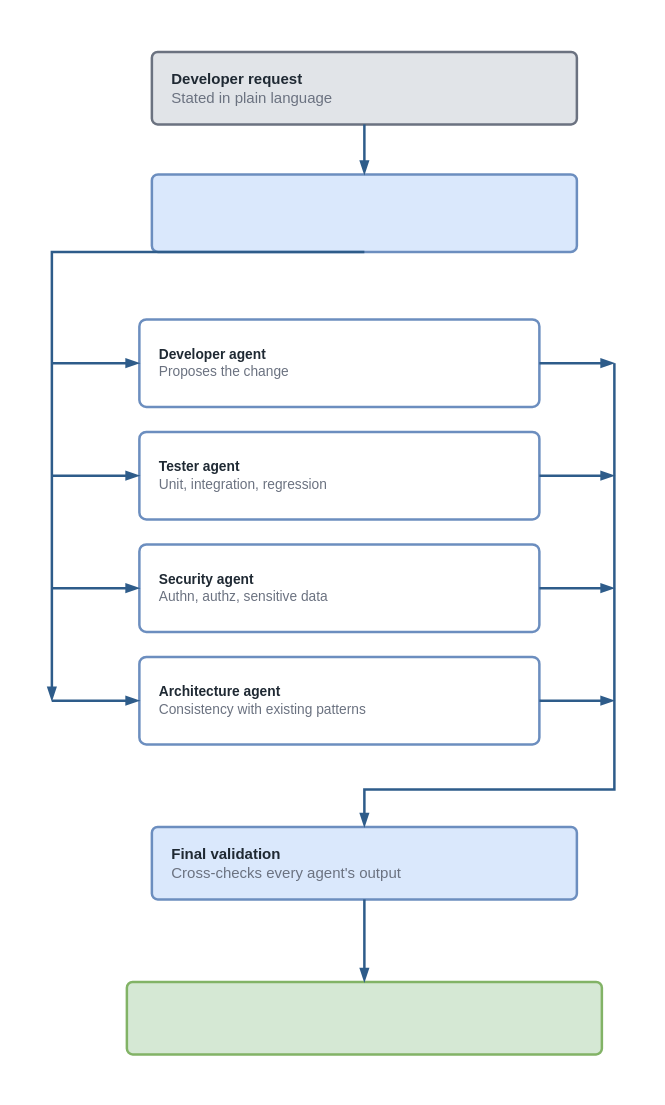
Image size: 665x1105. Some labels were removed from this diagram. The centre of each missing label's shape, as x and y in pixels:
"Main orchestrator agent Reads the request, decides who is involved" goes at pixel 364 212.
"Reviewed change + tests + notes A human still owns the merge" goes at pixel 363 1017.
